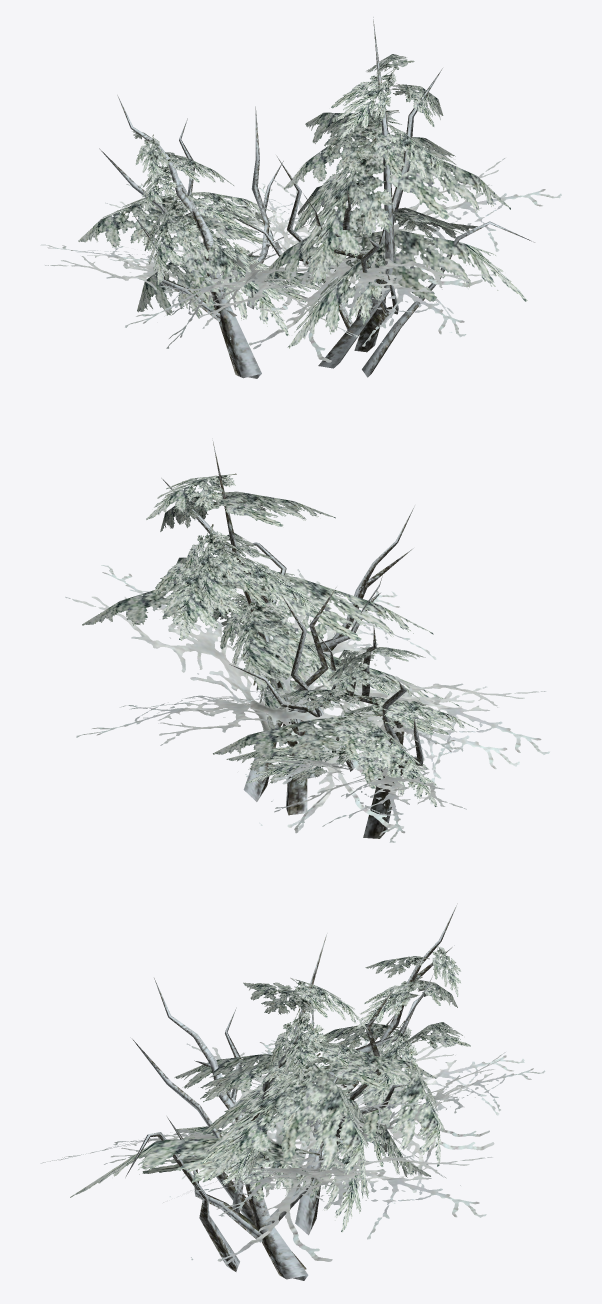
File: S_Tree_White014.FBX
3 renders of one model, top to bottom at view 1: azimuth 30°, elevation 25°; view 2: azimuth 150°, elevation 25°; view 3: azimuth 270°, elevation 25°, orthographic. The views are drawn at different scales.
Parts seen in each view (by area): view 1: S_Tree_White014; view 2: S_Tree_White014; view 3: S_Tree_White014.
Boxes of the visible parts, x1,y1,x2,y2 form: S_Tree_White014: (40, 17, 561, 378); S_Tree_White014: (65, 438, 549, 842); S_Tree_White014: (40, 903, 545, 1280).
Size of the model in its own units: 501 by 480 by 345.
